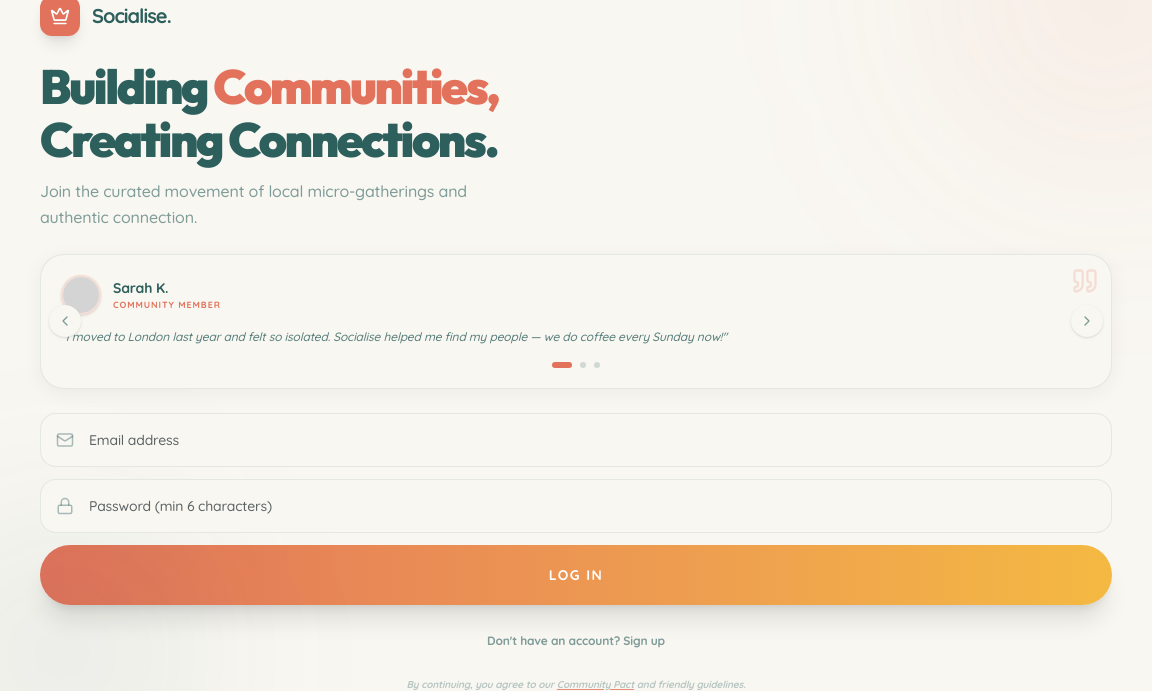
Test: AuthScreen › Register mode › should require first name in register mode
(page scrolled)
Click the button "Don't have an account? Sign up" at point(576, 641), box [40,621,1112,661]
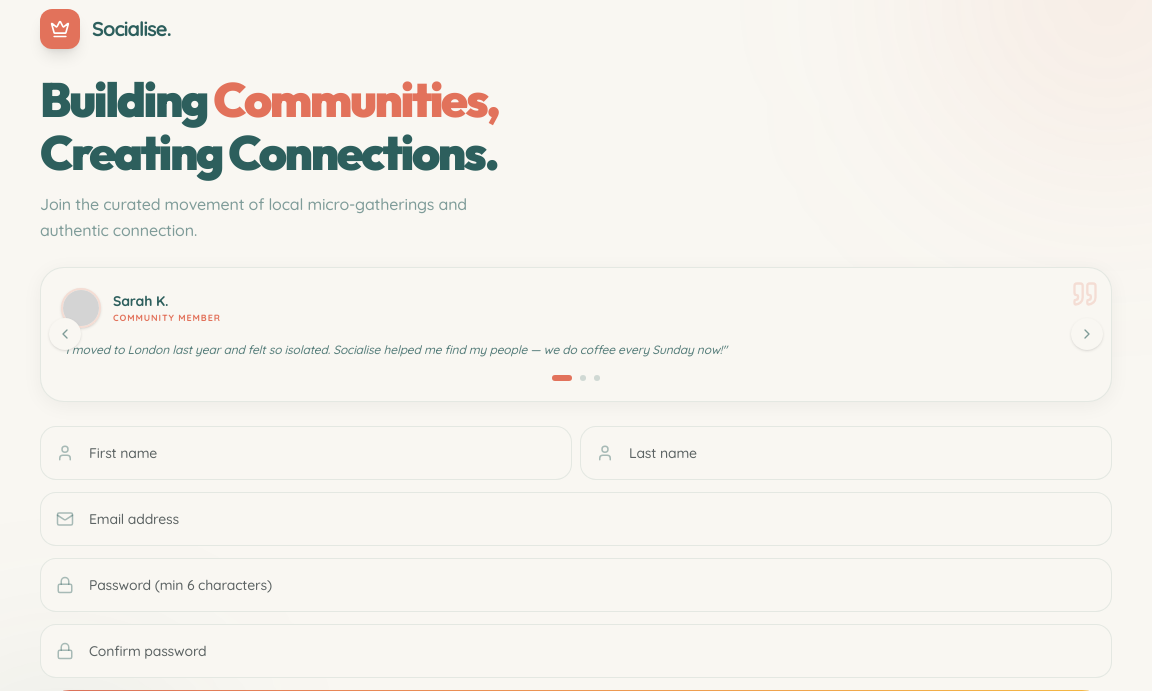
Type "new@example.com" into the field with placeholder "Email address" at point(576, 519), box [40,492,1112,546]
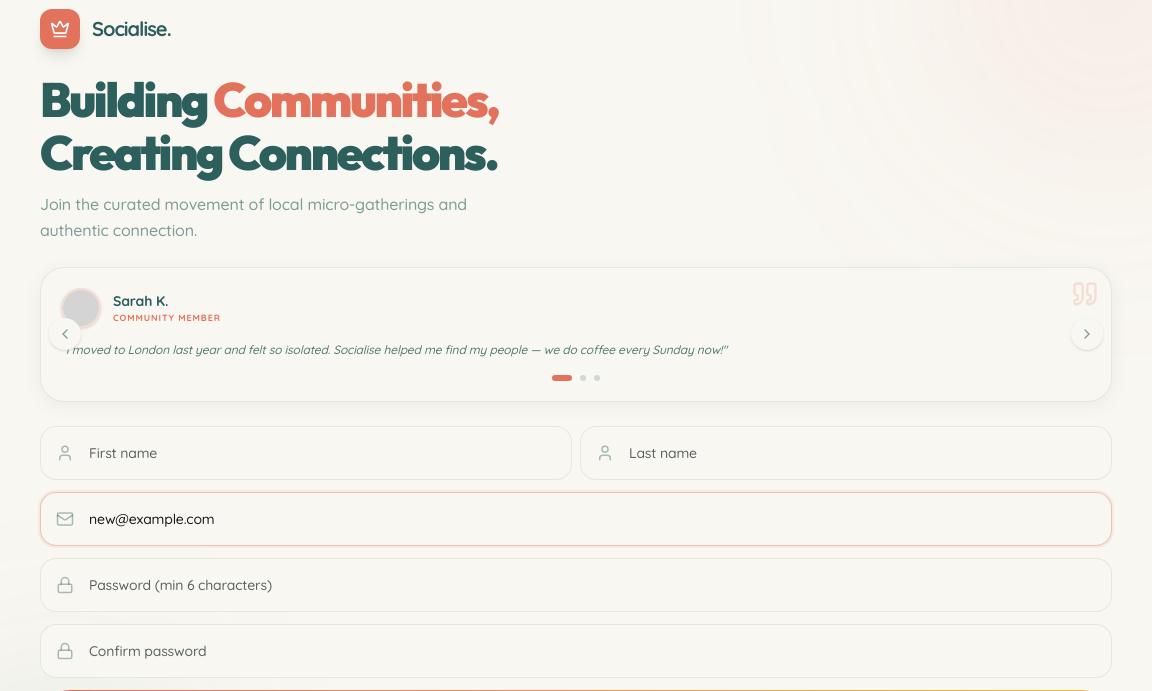
Type "password123" into the password field with placeholder "Password (min 6 characters)" at point(576, 585), box [40,558,1112,612]
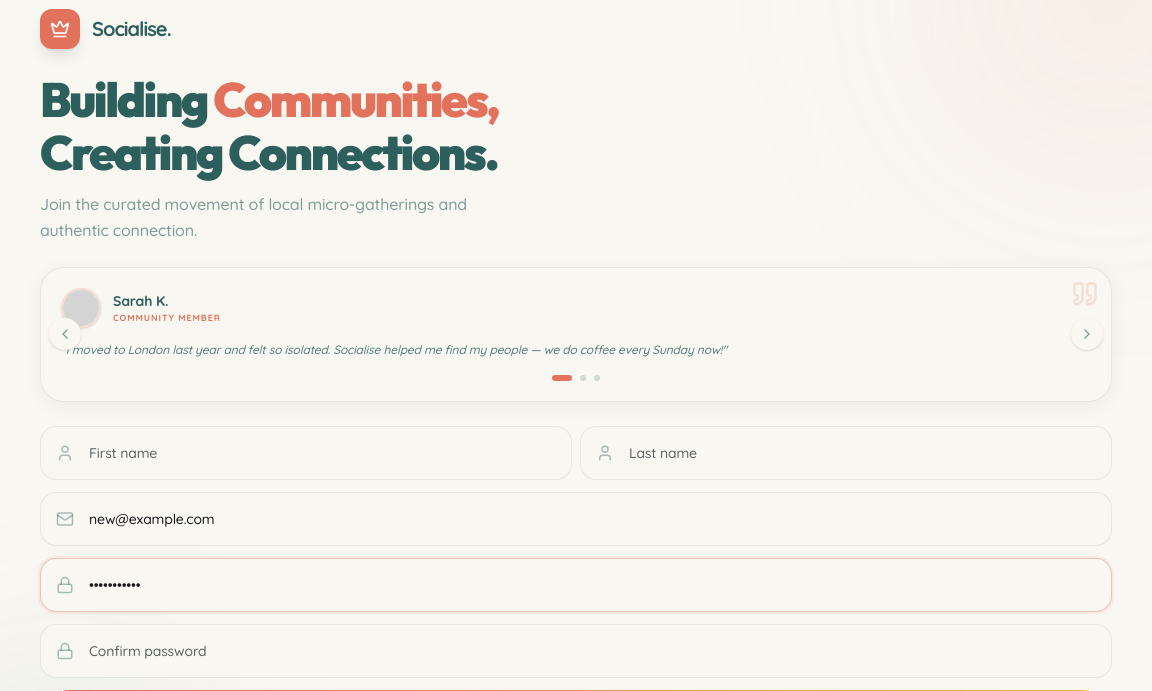
Type "password123" into the password field with placeholder "Confirm password" at point(576, 651), box [40,624,1112,678]
(page scrolled)
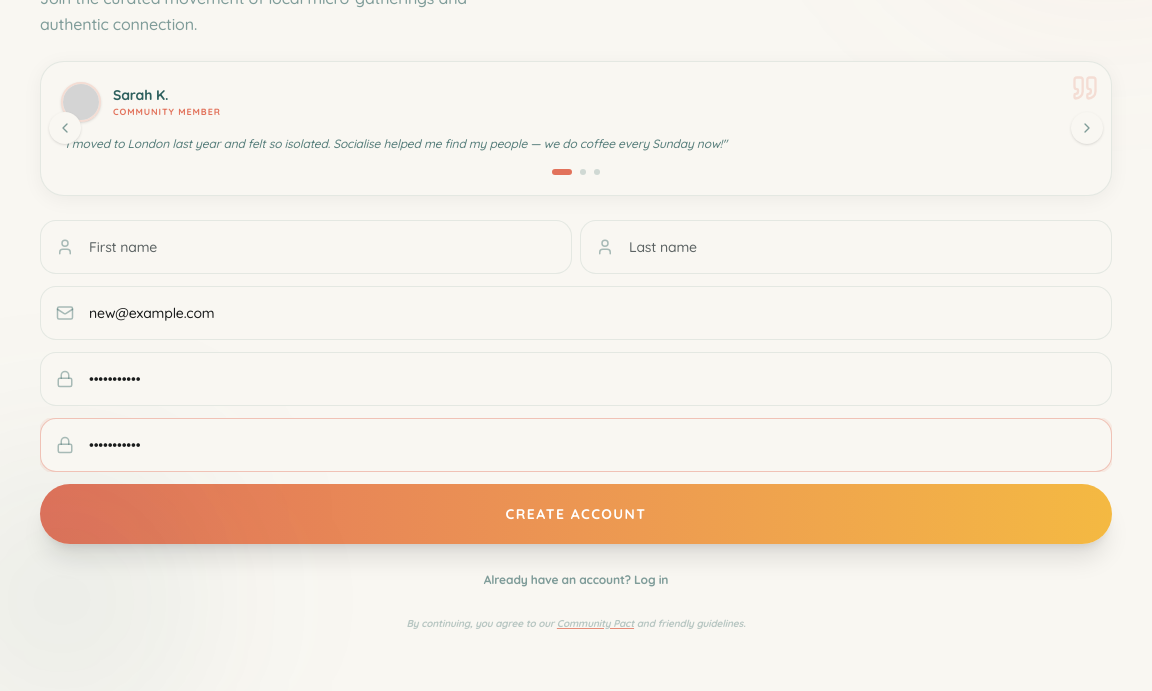
Click the button "Create Account" at point(576, 514), box [40,484,1112,544]
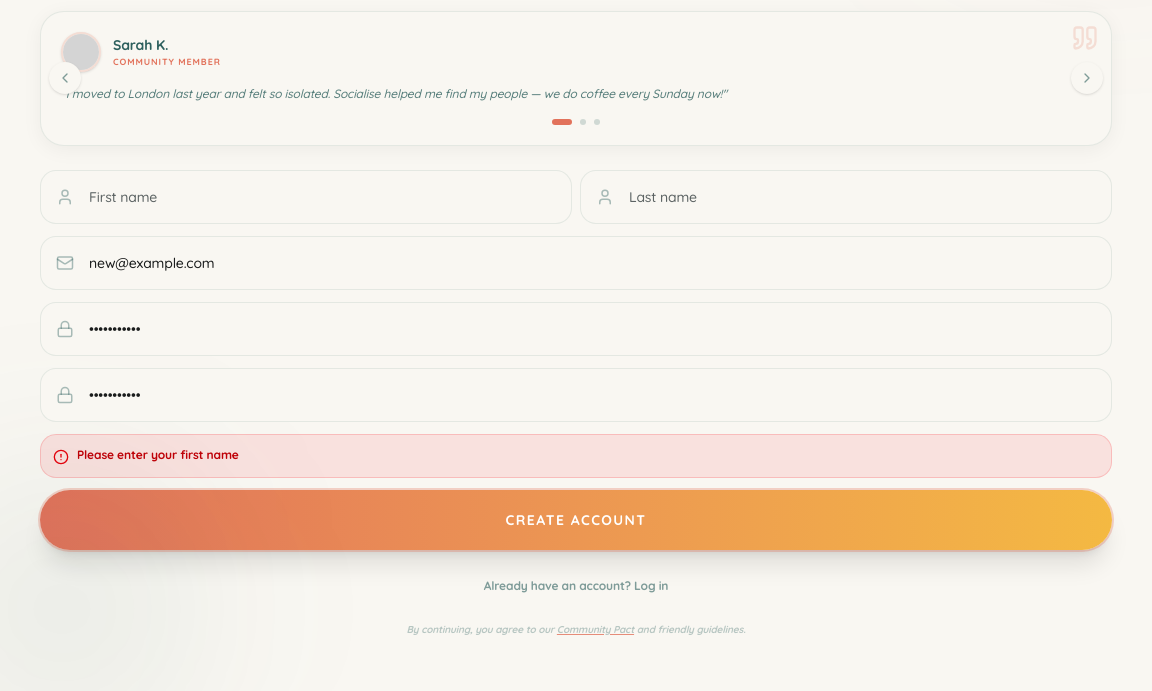
Check: the text "Please enter your first name" is shown, box [77,447,239,463]
